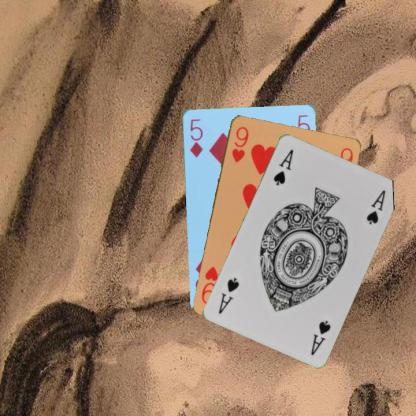5d: (187, 116, 204, 158)
9h: (228, 124, 249, 164)
As: (270, 146, 295, 187), (308, 317, 332, 356)
